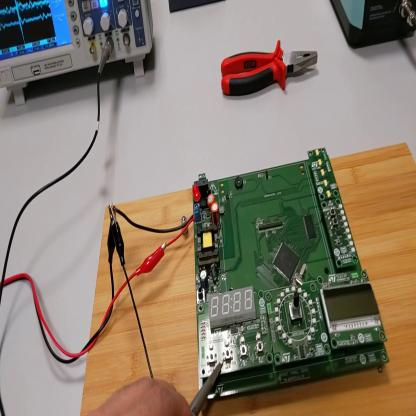hand: (88, 378, 194, 415)
low voltage board: (114, 148, 390, 403)
oscilloscope: (2, 2, 155, 106)
oscilloscope probe tip: (191, 364, 222, 416)
pliers: (221, 32, 320, 102)
welder station: (331, 1, 416, 51)
working area: (80, 143, 416, 415)
